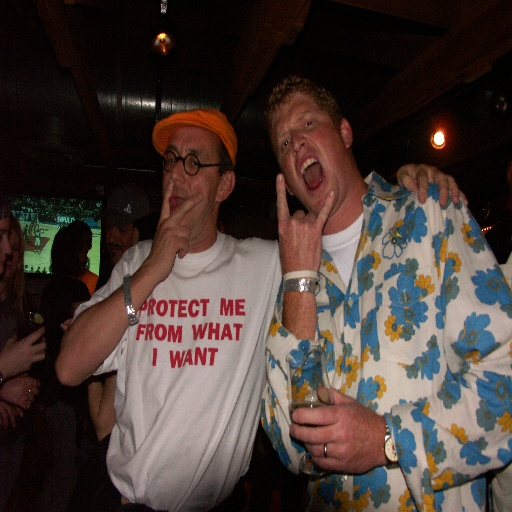hand: (288, 382, 385, 478), (276, 170, 335, 274), (149, 177, 204, 278), (396, 163, 469, 209), (0, 326, 46, 378), (0, 372, 41, 413), (0, 399, 25, 432), (59, 318, 72, 334)
